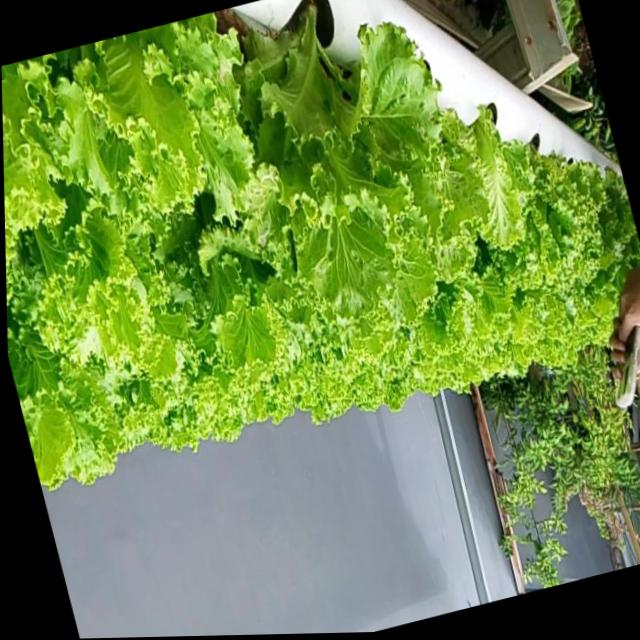Mature: (1, 0, 640, 488), (230, 8, 434, 304), (467, 120, 631, 324)
